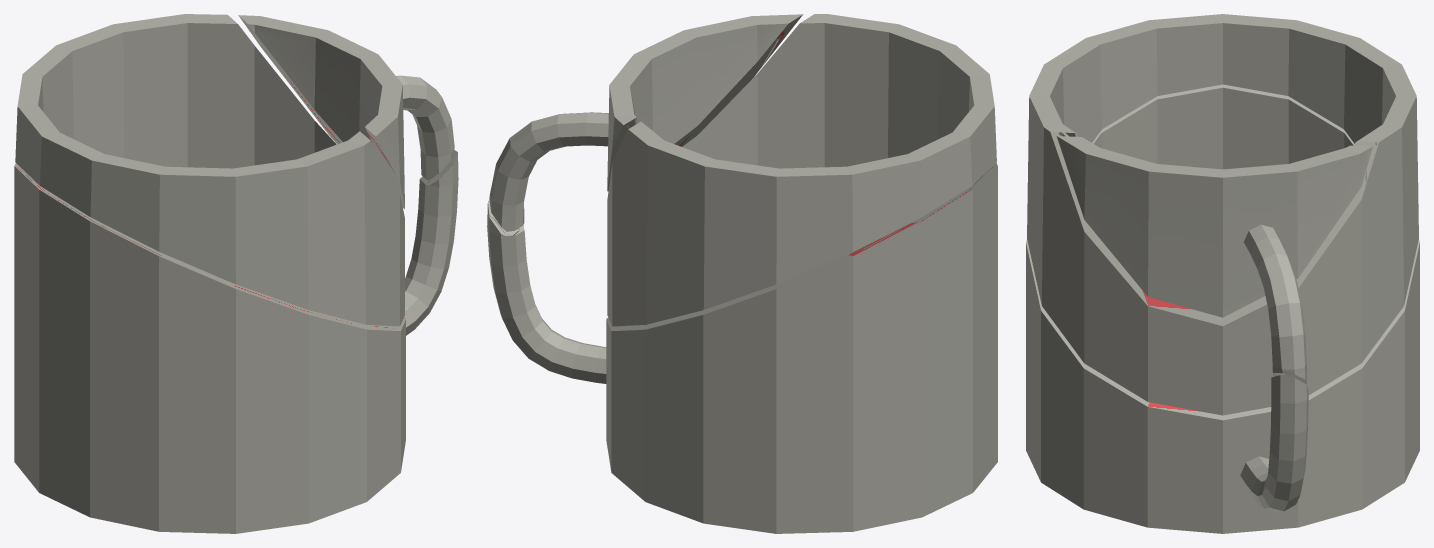
The model's file is broken_mug.fbx.
3 renders of one model, left to right at view 1: azimuth 30°, elevation 25°; view 2: azimuth 150°, elevation 25°; view 3: azimuth 270°, elevation 25°, orthographic.
Visible parts, largest first — view 1: polySurface8, polySurface4, polySurface6, polySurface7; view 2: polySurface8, polySurface4, polySurface6, polySurface7; view 3: polySurface4, polySurface8, polySurface6, polySurface7.
Part boxes in pixels (x1,y1,x2,y2): polySurface8: [14, 150, 458, 533]; polySurface4: [15, 14, 404, 326]; polySurface6: [238, 15, 404, 208]; polySurface7: [396, 75, 454, 180]; polySurface8: [487, 163, 997, 533]; polySurface4: [607, 14, 996, 326]; polySurface6: [607, 14, 802, 191]; polySurface7: [489, 112, 608, 231]; polySurface4: [1027, 14, 1418, 415]; polySurface8: [1026, 84, 1419, 533]; polySurface6: [1056, 136, 1372, 317]; polySurface7: [1244, 224, 1306, 384].
Bounding box in the file's own units: 16.06 × 12.14 × 12.21.
